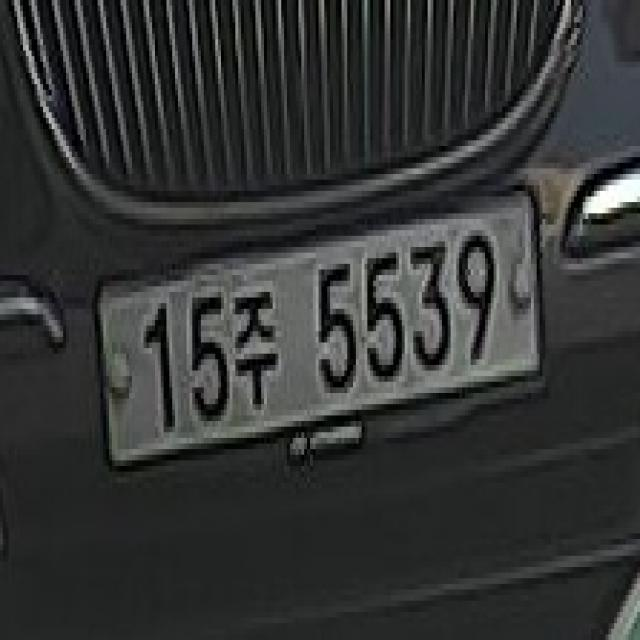1: (138, 280, 184, 454)
3: (408, 230, 453, 388)
5: (310, 247, 362, 410), (358, 235, 408, 398), (186, 275, 232, 438)
9: (453, 225, 508, 382)
ju: (230, 275, 284, 421)
license_plate: (89, 174, 551, 494)
